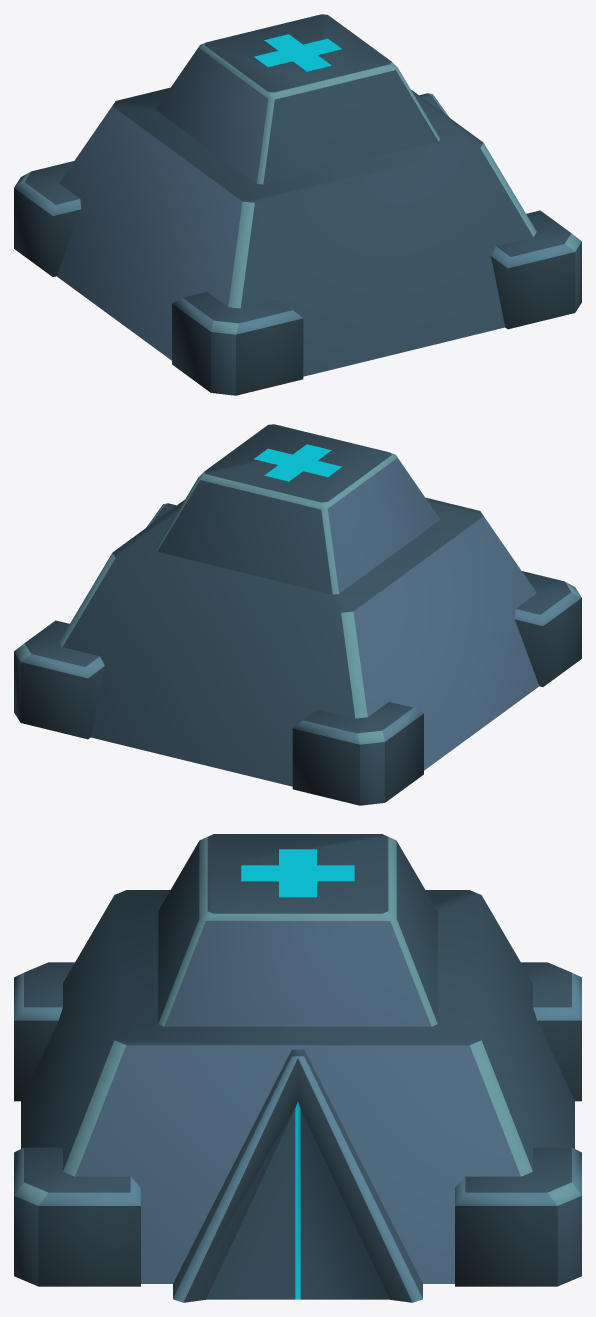
Rendered from Buildings_2.fbx.
3 views of the same model, one above another, from view 1: azimuth 30°, elevation 25°; view 2: azimuth 150°, elevation 25°; view 3: azimuth 270°, elevation 25° (orthographic). The views are drawn at different scales.
Visible parts, largest first — view 1: Buildings.010; view 2: Buildings.010; view 3: Buildings.010.
Part boxes in pixels (left/top/right/bottom): Buildings.010: left=14, top=14, right=581, bottom=395; Buildings.010: left=14, top=424, right=581, bottom=805; Buildings.010: left=14, top=834, right=581, bottom=1302.
Bounding box in the file's own units: 507 × 479 × 280.
